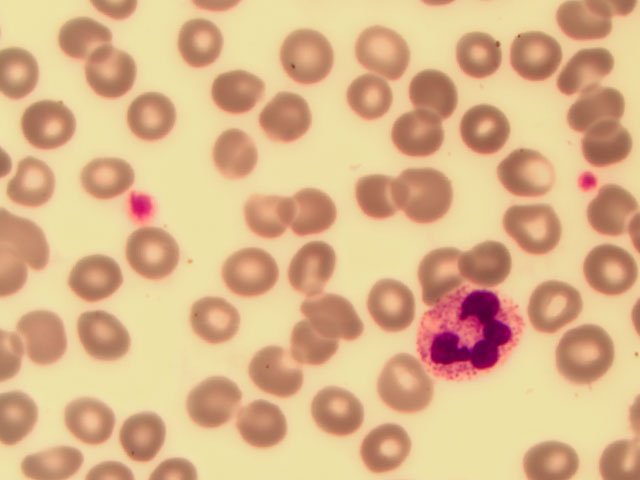Platelets: (126, 194, 154, 217), (575, 169, 596, 191)
RBC: (53, 11, 108, 69), (83, 46, 138, 104), (125, 91, 180, 149), (25, 98, 80, 156), (1, 42, 56, 100), (75, 147, 130, 205), (6, 157, 61, 215), (67, 247, 122, 305), (130, 225, 185, 283), (205, 126, 260, 184), (212, 69, 267, 127), (179, 12, 234, 70), (257, 84, 312, 142), (277, 27, 332, 85), (334, 73, 389, 131), (358, 23, 413, 81), (403, 64, 458, 122), (399, 107, 454, 165), (445, 100, 500, 158), (457, 27, 512, 85), (503, 27, 558, 85), (550, 31, 605, 89), (571, 79, 626, 137), (574, 116, 629, 174), (501, 147, 556, 205), (502, 201, 557, 259), (464, 229, 519, 287), (414, 241, 469, 299), (399, 163, 454, 221), (352, 167, 407, 225), (287, 183, 342, 241), (239, 192, 294, 250), (226, 241, 281, 299), (192, 289, 247, 347), (303, 284, 358, 342), (284, 234, 339, 292), (368, 270, 423, 328), (287, 311, 342, 369), (248, 344, 303, 402), (236, 397, 291, 455), (183, 372, 238, 430), (77, 303, 132, 361), (19, 308, 74, 366), (70, 393, 125, 451), (121, 405, 176, 463), (29, 422, 84, 480), (3, 391, 58, 449), (305, 383, 360, 441), (378, 355, 433, 413), (359, 418, 414, 476), (529, 422, 584, 480), (560, 330, 615, 388), (531, 279, 586, 337), (585, 247, 640, 305), (585, 183, 640, 241), (557, 1, 613, 44)
WBC: (413, 284, 524, 384)
